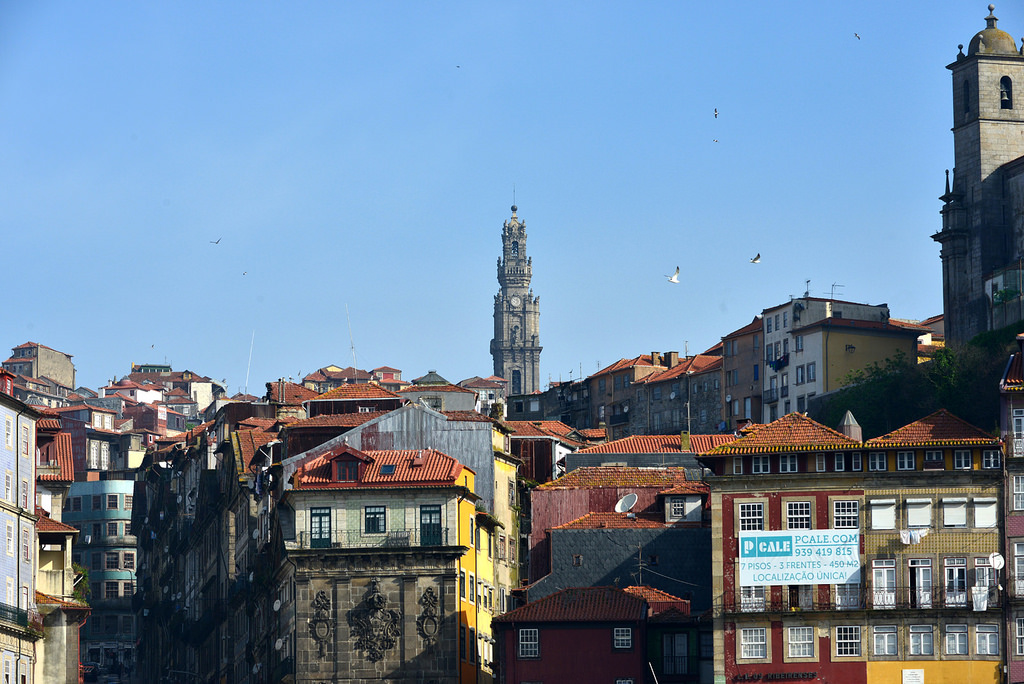clerigos: (481, 181, 545, 398)
